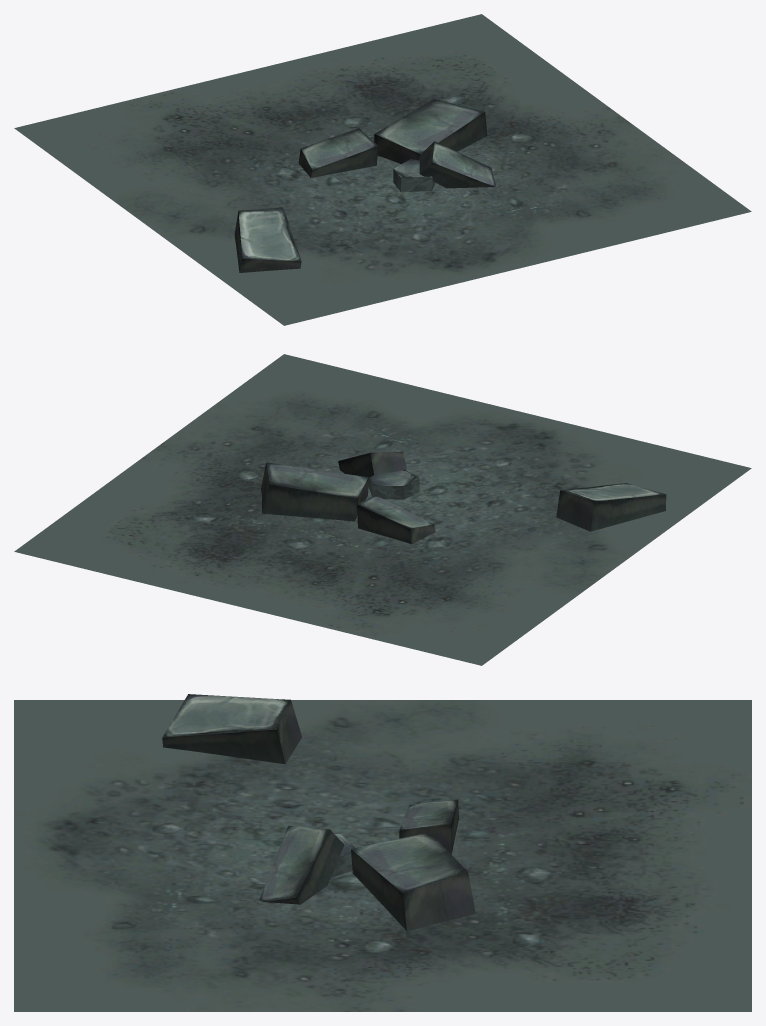
Rendered from crypt_rubble_05.fbx.
3 views of the same model, one above another, from view 1: azimuth 30°, elevation 25°; view 2: azimuth 150°, elevation 25°; view 3: azimuth 270°, elevation 25° (orthographic). The views are drawn at different scales.
Visible parts, largest first — view 1: crypt_rubble_05-0; view 2: crypt_rubble_05-0; view 3: crypt_rubble_05-0.
Boxes of the visible parts, x1=… form: crypt_rubble_05-0: x1=14, y1=14, x2=751, y2=325; crypt_rubble_05-0: x1=14, y1=354, x2=751, y2=665; crypt_rubble_05-0: x1=14, y1=694, x2=751, y2=1011.
Bounding box in the file's own units: 4 × 0.4565 × 4.
